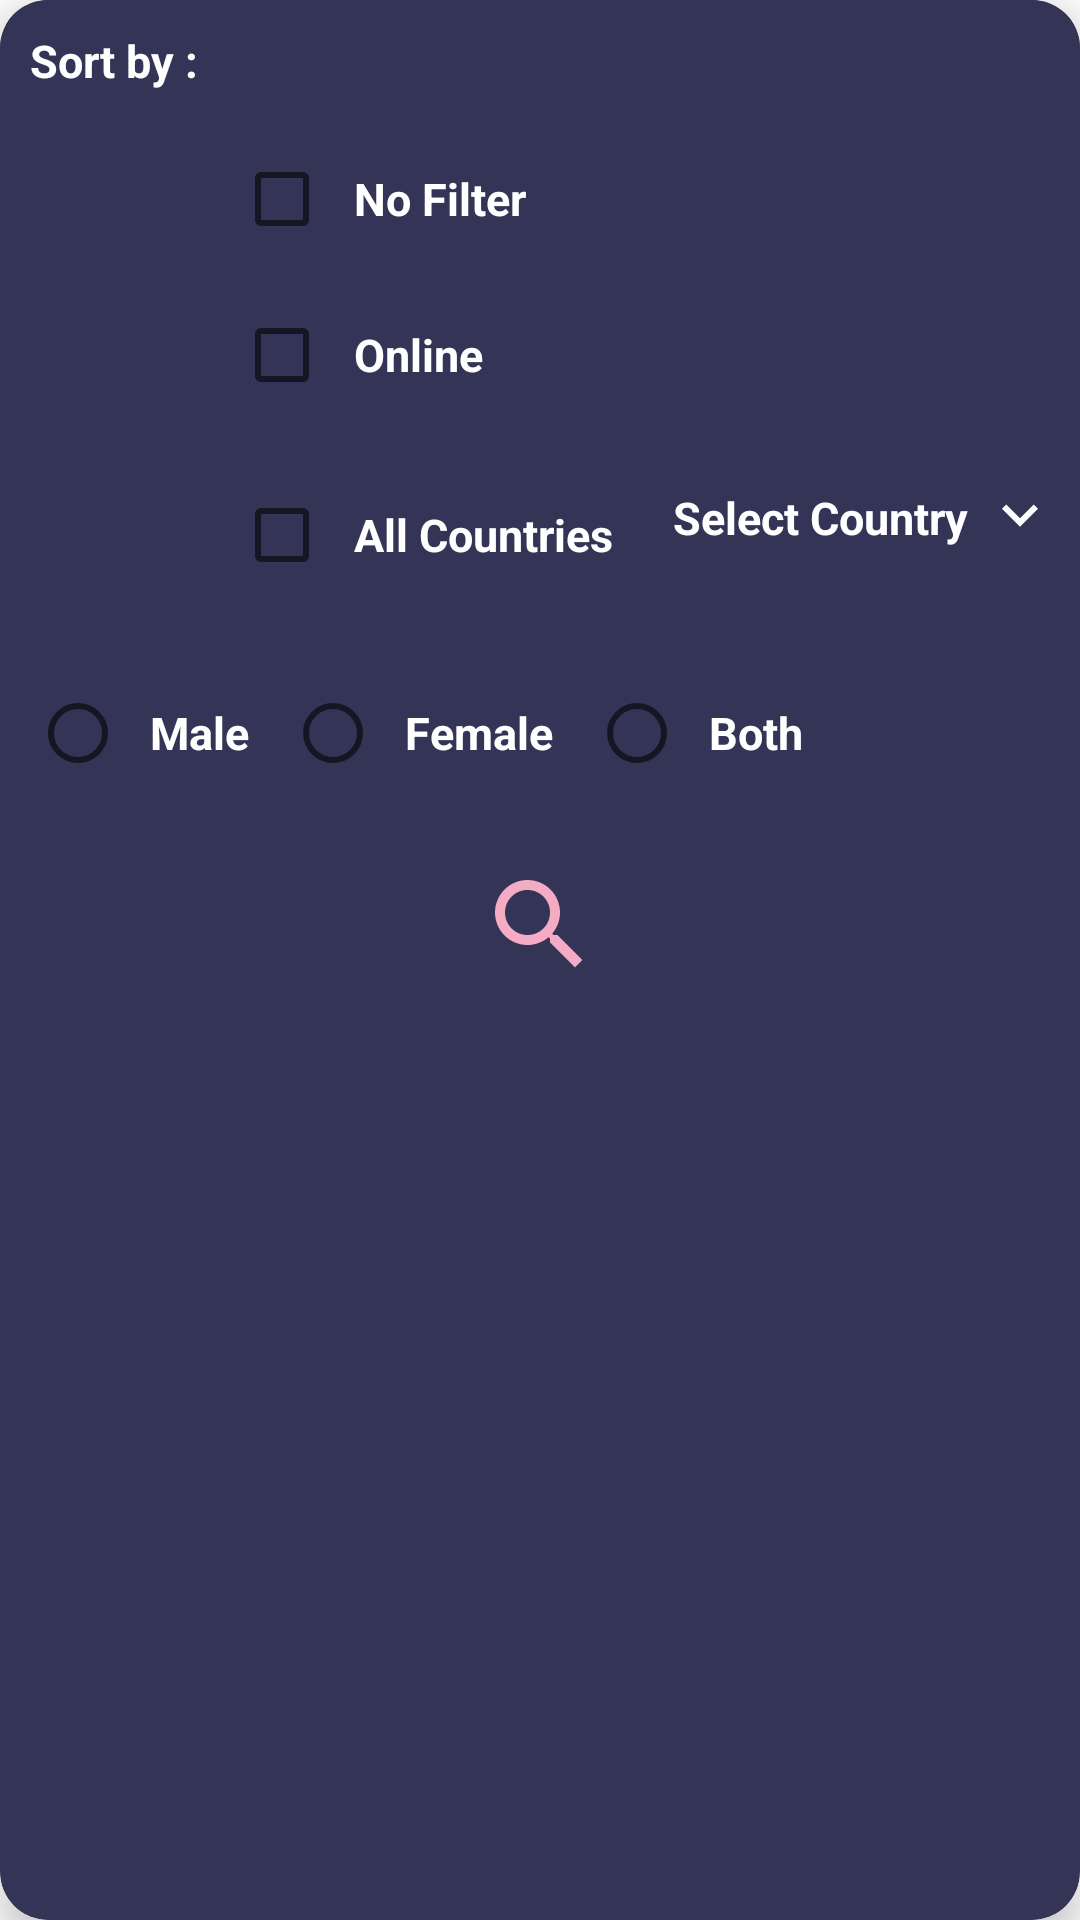

Named icons in this screenshot (1080 x 1920) and their centers, (x,y):
keyboard arrow down: (1020,515)
search: (538,923)
